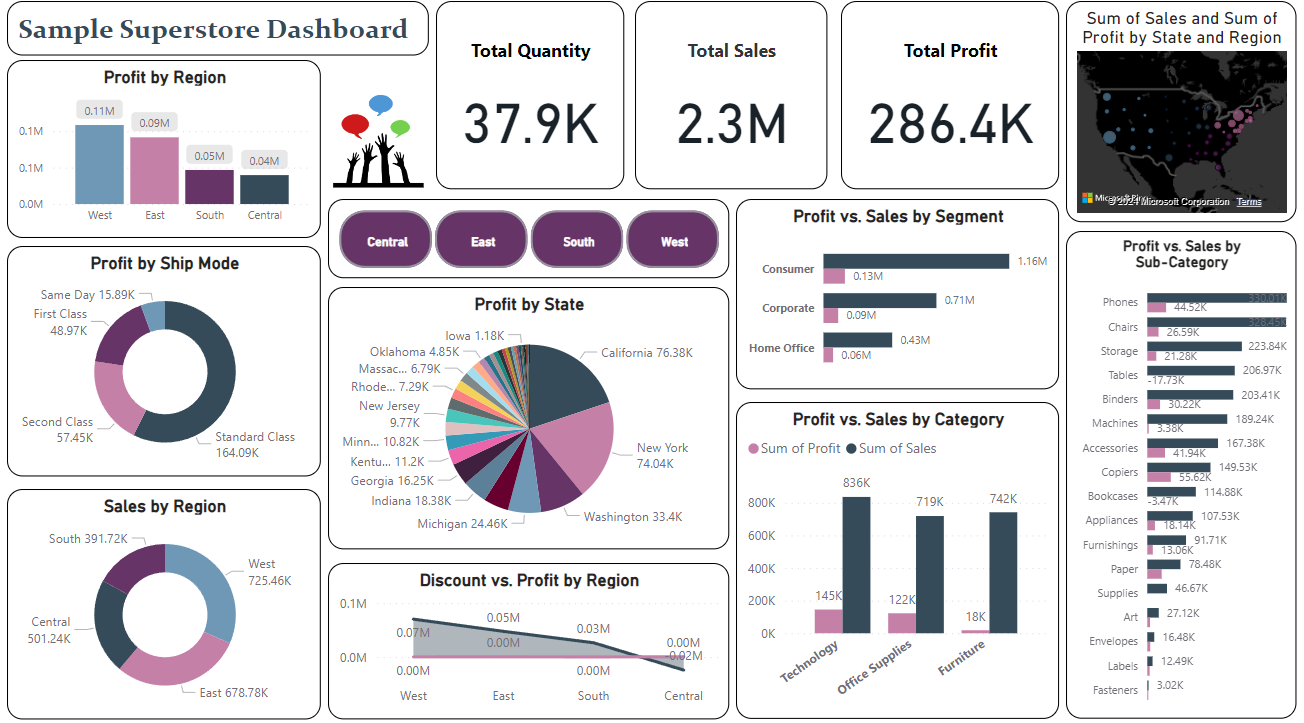

What the dashboard file says about the page in this screenshot:
{"tool":"powerbi","page":{"name":"Page 1","canvas":[1280,720],"ordinal":0},"visuals":[{"type":"map","fields":{"Category":["SampleSuperstore.State"],"Size":["Sum(SampleSuperstore.Sales)"],"Series":["SampleSuperstore.Region"]},"box":[1041.9,9.7,223.5,214.8],"z":0},{"type":"clusteredBarChart","title":"Profit vs. Sales by Segment","fields":{"Category":["SampleSuperstore.Segment"],"Y":["Sum(SampleSuperstore.Sales)","Sum(SampleSuperstore.Profit)"]},"box":[714.4,233.3,313.9,153.6],"z":1000},{"type":"donutChart","title":"Sales by Region","fields":{"Y":["Sum(SampleSuperstore.Sales)"],"Category":["SampleSuperstore.Region"]},"box":[12.6,484,305.2,223.5],"z":2000},{"type":"actionButton","box":[0,0,100,40],"z":3000},{"type":"cardVisual","fields":{"Data":["Sum(SampleSuperstore.Sales)"]},"box":[625.9,9.7,176.9,214.8],"z":4000},{"type":"clusteredBarChart","title":"Profit vs. Sales by Sub-Category ","fields":{"Category":["SampleSuperstore.Sub-Category"],"Y":["Sum(SampleSuperstore.Sales)","Sum(SampleSuperstore.Profit)"]},"box":[1041.9,233.3,223.5,474.3],"z":5000},{"type":"areaChart","title":"Discount vs. Profit by Region","fields":{"Category":["SampleSuperstore.Region"],"Y":["Sum(SampleSuperstore.Profit Margin)","Sum(SampleSuperstore.Discount)"]},"box":[324.6,555.9,372.2,151.6],"z":6000},{"type":"pieChart","title":"Profit by State","fields":{"Y":["Sum(SampleSuperstore.Profit)"],"Category":["SampleSuperstore.State"]},"box":[324.6,317.8,372.2,224.5],"z":7000},{"type":"cardVisual","fields":{"Data":["Sum(SampleSuperstore.Quantity)"]},"box":[429.6,9.7,182.7,214.8],"z":8000},{"type":"donutChart","title":"Profit by Ship Mode","fields":{"Y":["Sum(SampleSuperstore.Profit)"],"Category":["SampleSuperstore.Ship Mode"]},"box":[12.6,247.8,305.2,223.5],"z":9000},{"type":"cardVisual","fields":{"Data":["Sum(SampleSuperstore.Profit)"]},"box":[816.4,9.7,211.9,214.8],"z":10000},{"type":"advancedSlicerVisual","fields":{"Values":["SampleSuperstore.Region"]},"box":[324.6,233.3,372.2,76.8],"z":11000},{"type":"columnChart","title":"Profit by Region","fields":{"Category":["SampleSuperstore.Region"],"Y":["Sum(SampleSuperstore.Profit)"],"Series":["SampleSuperstore.Region"]},"box":[12.6,67.1,305.2,173],"z":12000},{"type":"textbox","box":[12.6,9.7,410.1,53.5],"z":13000},{"type":"image","box":[324.6,67.1,98.2,157.4],"z":14000},{"type":"clusteredColumnChart","title":"Profit vs. Sales by Category","fields":{"Y":["Sum(SampleSuperstore.Profit)","Sum(SampleSuperstore.Sales)"],"Category":["SampleSuperstore.Category"]},"box":[714.4,399.5,313.9,308.1],"z":15000}]}

Visuals, with their boxes in screenshot pixels (x1, y1, x2, y2), scaled from the page's 1280x720 canvas onto the 1304x723 screenshot:
map - SampleSuperstore.State x Sum(SampleSuperstore.Sales): pyautogui.locateOnScreen(1061, 10, 1289, 225)
"Profit vs. Sales by Segment" clusteredBarChart: pyautogui.locateOnScreen(728, 234, 1048, 389)
"Sales by Region" donutChart: pyautogui.locateOnScreen(13, 486, 324, 710)
actionButton: pyautogui.locateOnScreen(0, 0, 102, 40)
cardVisual - Sum(SampleSuperstore.Sales): pyautogui.locateOnScreen(638, 10, 818, 225)
"Profit vs. Sales by Sub-Category " clusteredBarChart: pyautogui.locateOnScreen(1061, 234, 1289, 711)
"Discount vs. Profit by Region" areaChart: pyautogui.locateOnScreen(331, 558, 710, 710)
"Profit by State" pieChart: pyautogui.locateOnScreen(331, 319, 710, 545)
cardVisual - Sum(SampleSuperstore.Quantity): pyautogui.locateOnScreen(438, 10, 624, 225)
"Profit by Ship Mode" donutChart: pyautogui.locateOnScreen(13, 249, 324, 473)
cardVisual - Sum(SampleSuperstore.Profit): pyautogui.locateOnScreen(832, 10, 1048, 225)
advancedSlicerVisual - SampleSuperstore.Region: pyautogui.locateOnScreen(331, 234, 710, 311)
"Profit by Region" columnChart: pyautogui.locateOnScreen(13, 67, 324, 241)
textbox: pyautogui.locateOnScreen(13, 10, 431, 63)
image: pyautogui.locateOnScreen(331, 67, 431, 225)
"Profit vs. Sales by Category" clusteredColumnChart: pyautogui.locateOnScreen(728, 401, 1048, 711)
